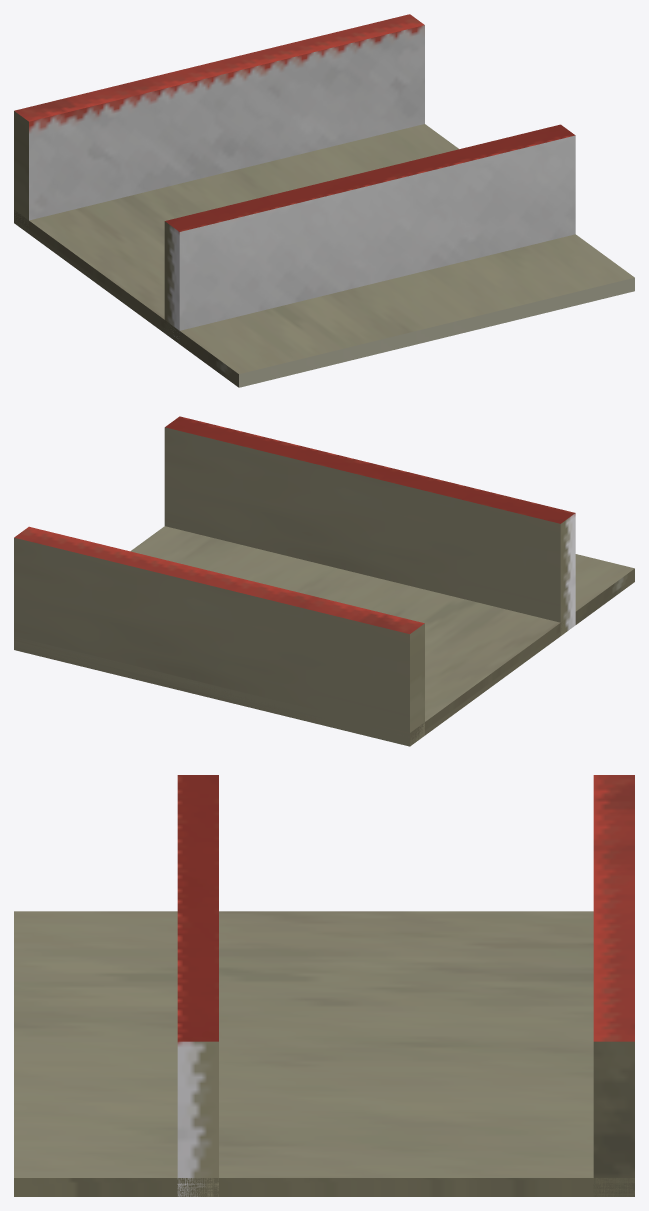
Rendered from pz_g016_shop_zippee_low_wall_shelves.obj.
3 views of the same model, one above another, from view 1: azimuth 30°, elevation 25°; view 2: azimuth 150°, elevation 25°; view 3: azimuth 270°, elevation 25° (orthographic). The views are drawn at different scales.
Visible parts, largest first — view 1: physical_component_0_y+, physical_component_2_z+, physical_component_1_z+, physical_component_2_y+, physical_component_1_y+, physical_component_0_z+, physical_component_0_x-, physical_component_1_x-, physical_component_2_x-; view 2: physical_component_1_z-, physical_component_2_z-, physical_component_0_y+, physical_component_2_y+, physical_component_1_y+, physical_component_0_z-, physical_component_0_x-, physical_component_2_x-, physical_component_1_x-; view 3: physical_component_0_y+, physical_component_0_x+, physical_component_1_y+, physical_component_2_y+, physical_component_1_x+, physical_component_2_x+.
Part boxes in pixels (bbox=[...]): physical_component_0_y+: bbox=[29, 124, 634, 374]; physical_component_2_z+: bbox=[179, 135, 575, 330]; physical_component_1_z+: bbox=[29, 25, 424, 220]; physical_component_2_y+: bbox=[165, 124, 575, 231]; physical_component_1_y+: bbox=[14, 14, 424, 121]; physical_component_0_z+: bbox=[239, 277, 634, 387]; physical_component_0_x-: bbox=[14, 210, 238, 387]; physical_component_1_x-: bbox=[14, 111, 28, 231]; physical_component_2_x-: bbox=[164, 221, 179, 338]; physical_component_1_z-: bbox=[14, 537, 409, 745]; physical_component_2_z-: bbox=[164, 427, 560, 622]; physical_component_0_y+: bbox=[130, 526, 634, 721]; physical_component_2_y+: bbox=[165, 416, 574, 523]; physical_component_1_y+: bbox=[14, 526, 424, 633]; physical_component_0_z-: bbox=[14, 636, 409, 746]; physical_component_0_x-: bbox=[410, 568, 634, 746]; physical_component_2_x-: bbox=[560, 513, 575, 635]; physical_component_1_x-: bbox=[410, 623, 424, 745]; physical_component_0_y+: bbox=[14, 911, 593, 1177]; physical_component_0_x+: bbox=[14, 1178, 634, 1196]; physical_component_1_y+: bbox=[593, 775, 634, 1041]; physical_component_2_y+: bbox=[177, 775, 218, 1041]; physical_component_1_x+: bbox=[593, 1041, 634, 1196]; physical_component_2_x+: bbox=[177, 1041, 218, 1196].
Bounding box in the file's own units: 1.07 × 0.29 × 1.05.
1 material, 1 textured.
